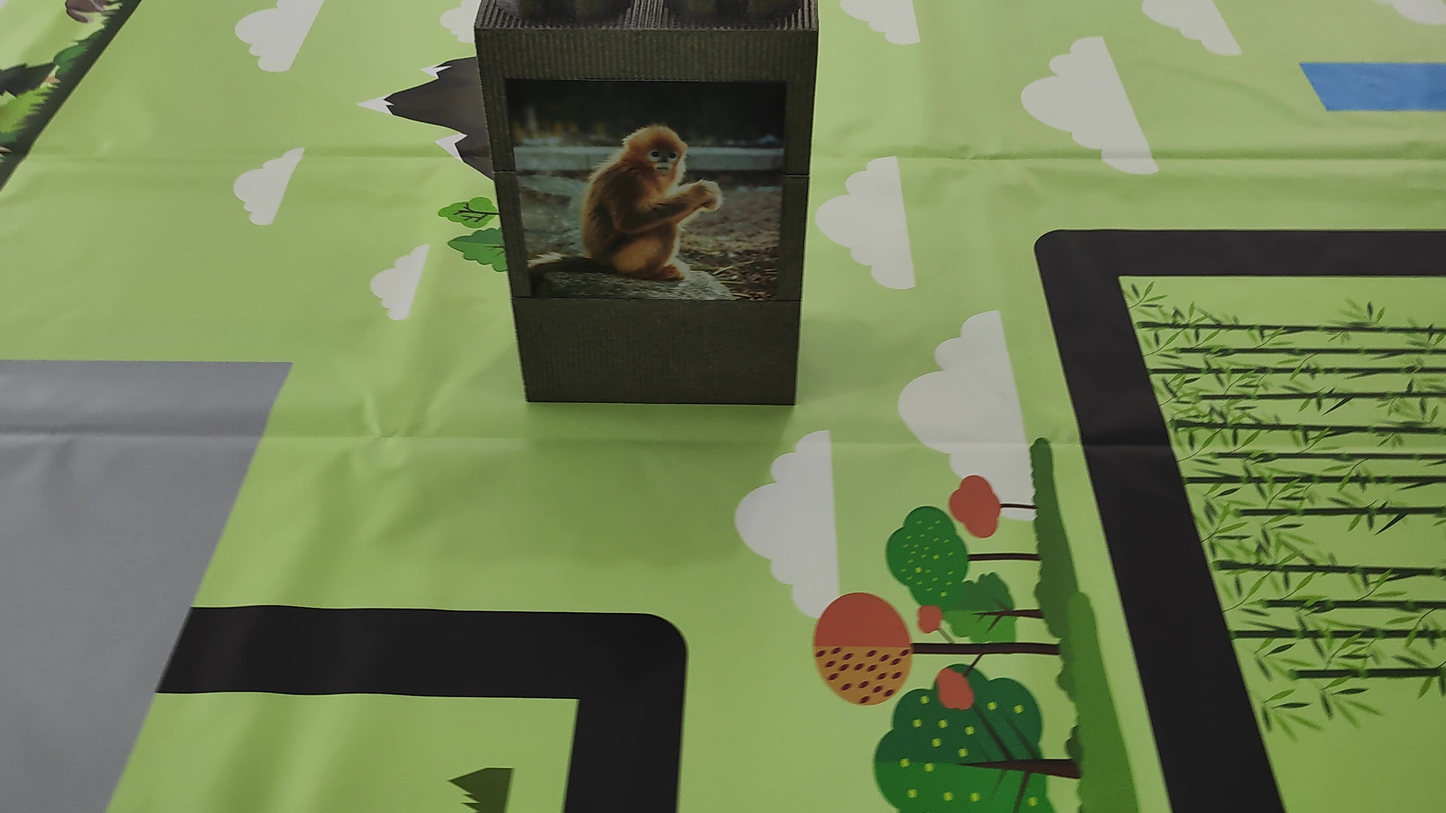monkey: (552, 113, 755, 285)
